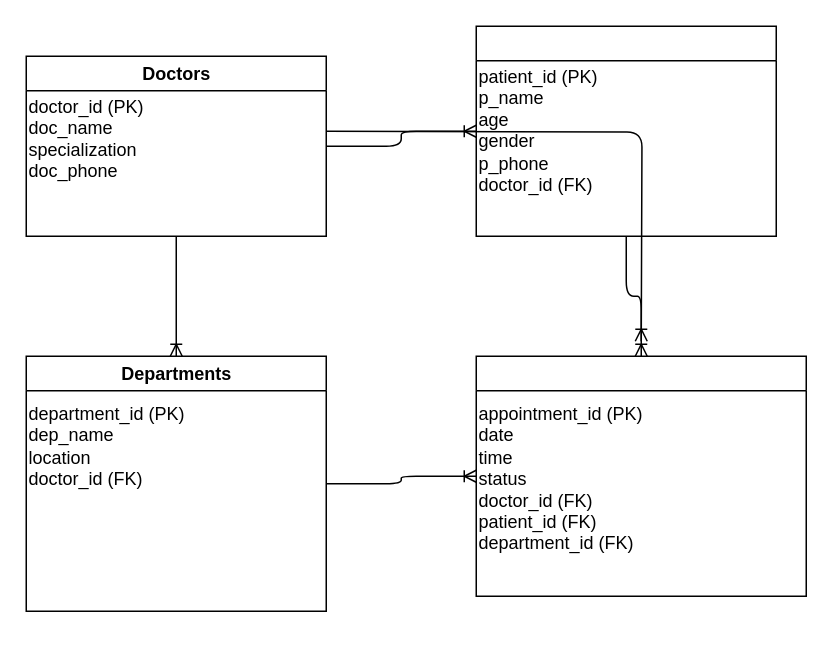
The diagram is 833 pixels wide and 660 high, and some of its shapes have lost their labels. The box of each missing label's shape, as (x1, y1, x2, y2) in pixels:
Appointments: (475, 355, 806, 596)
Patients: (475, 25, 776, 236)
